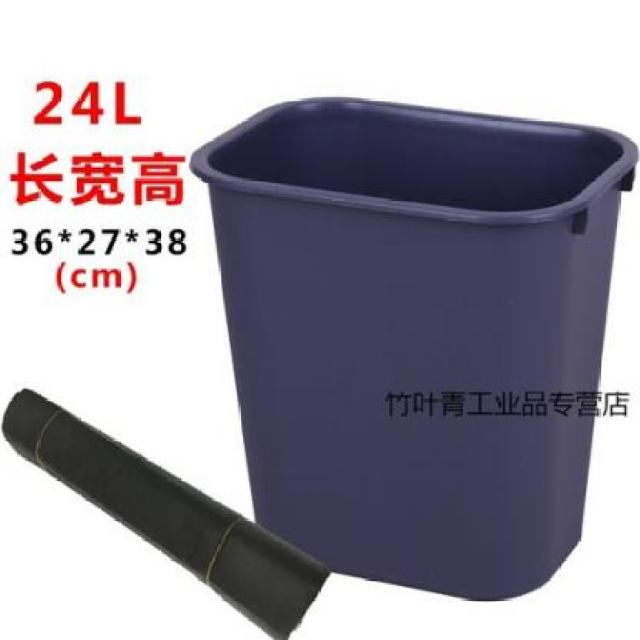dustbin: (184, 89, 640, 606)
